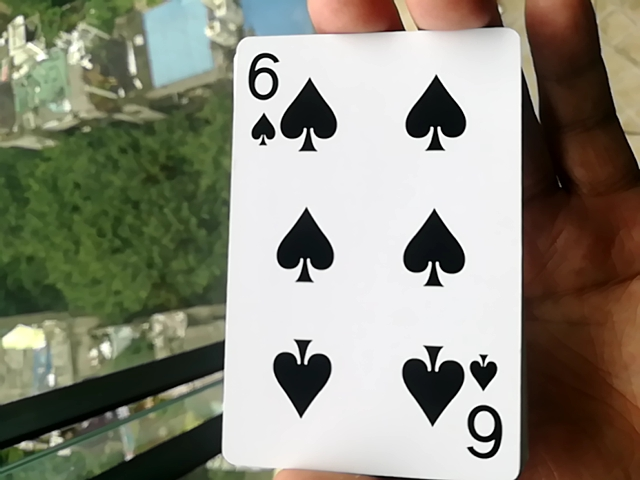ht 6: (206, 14, 522, 480)
